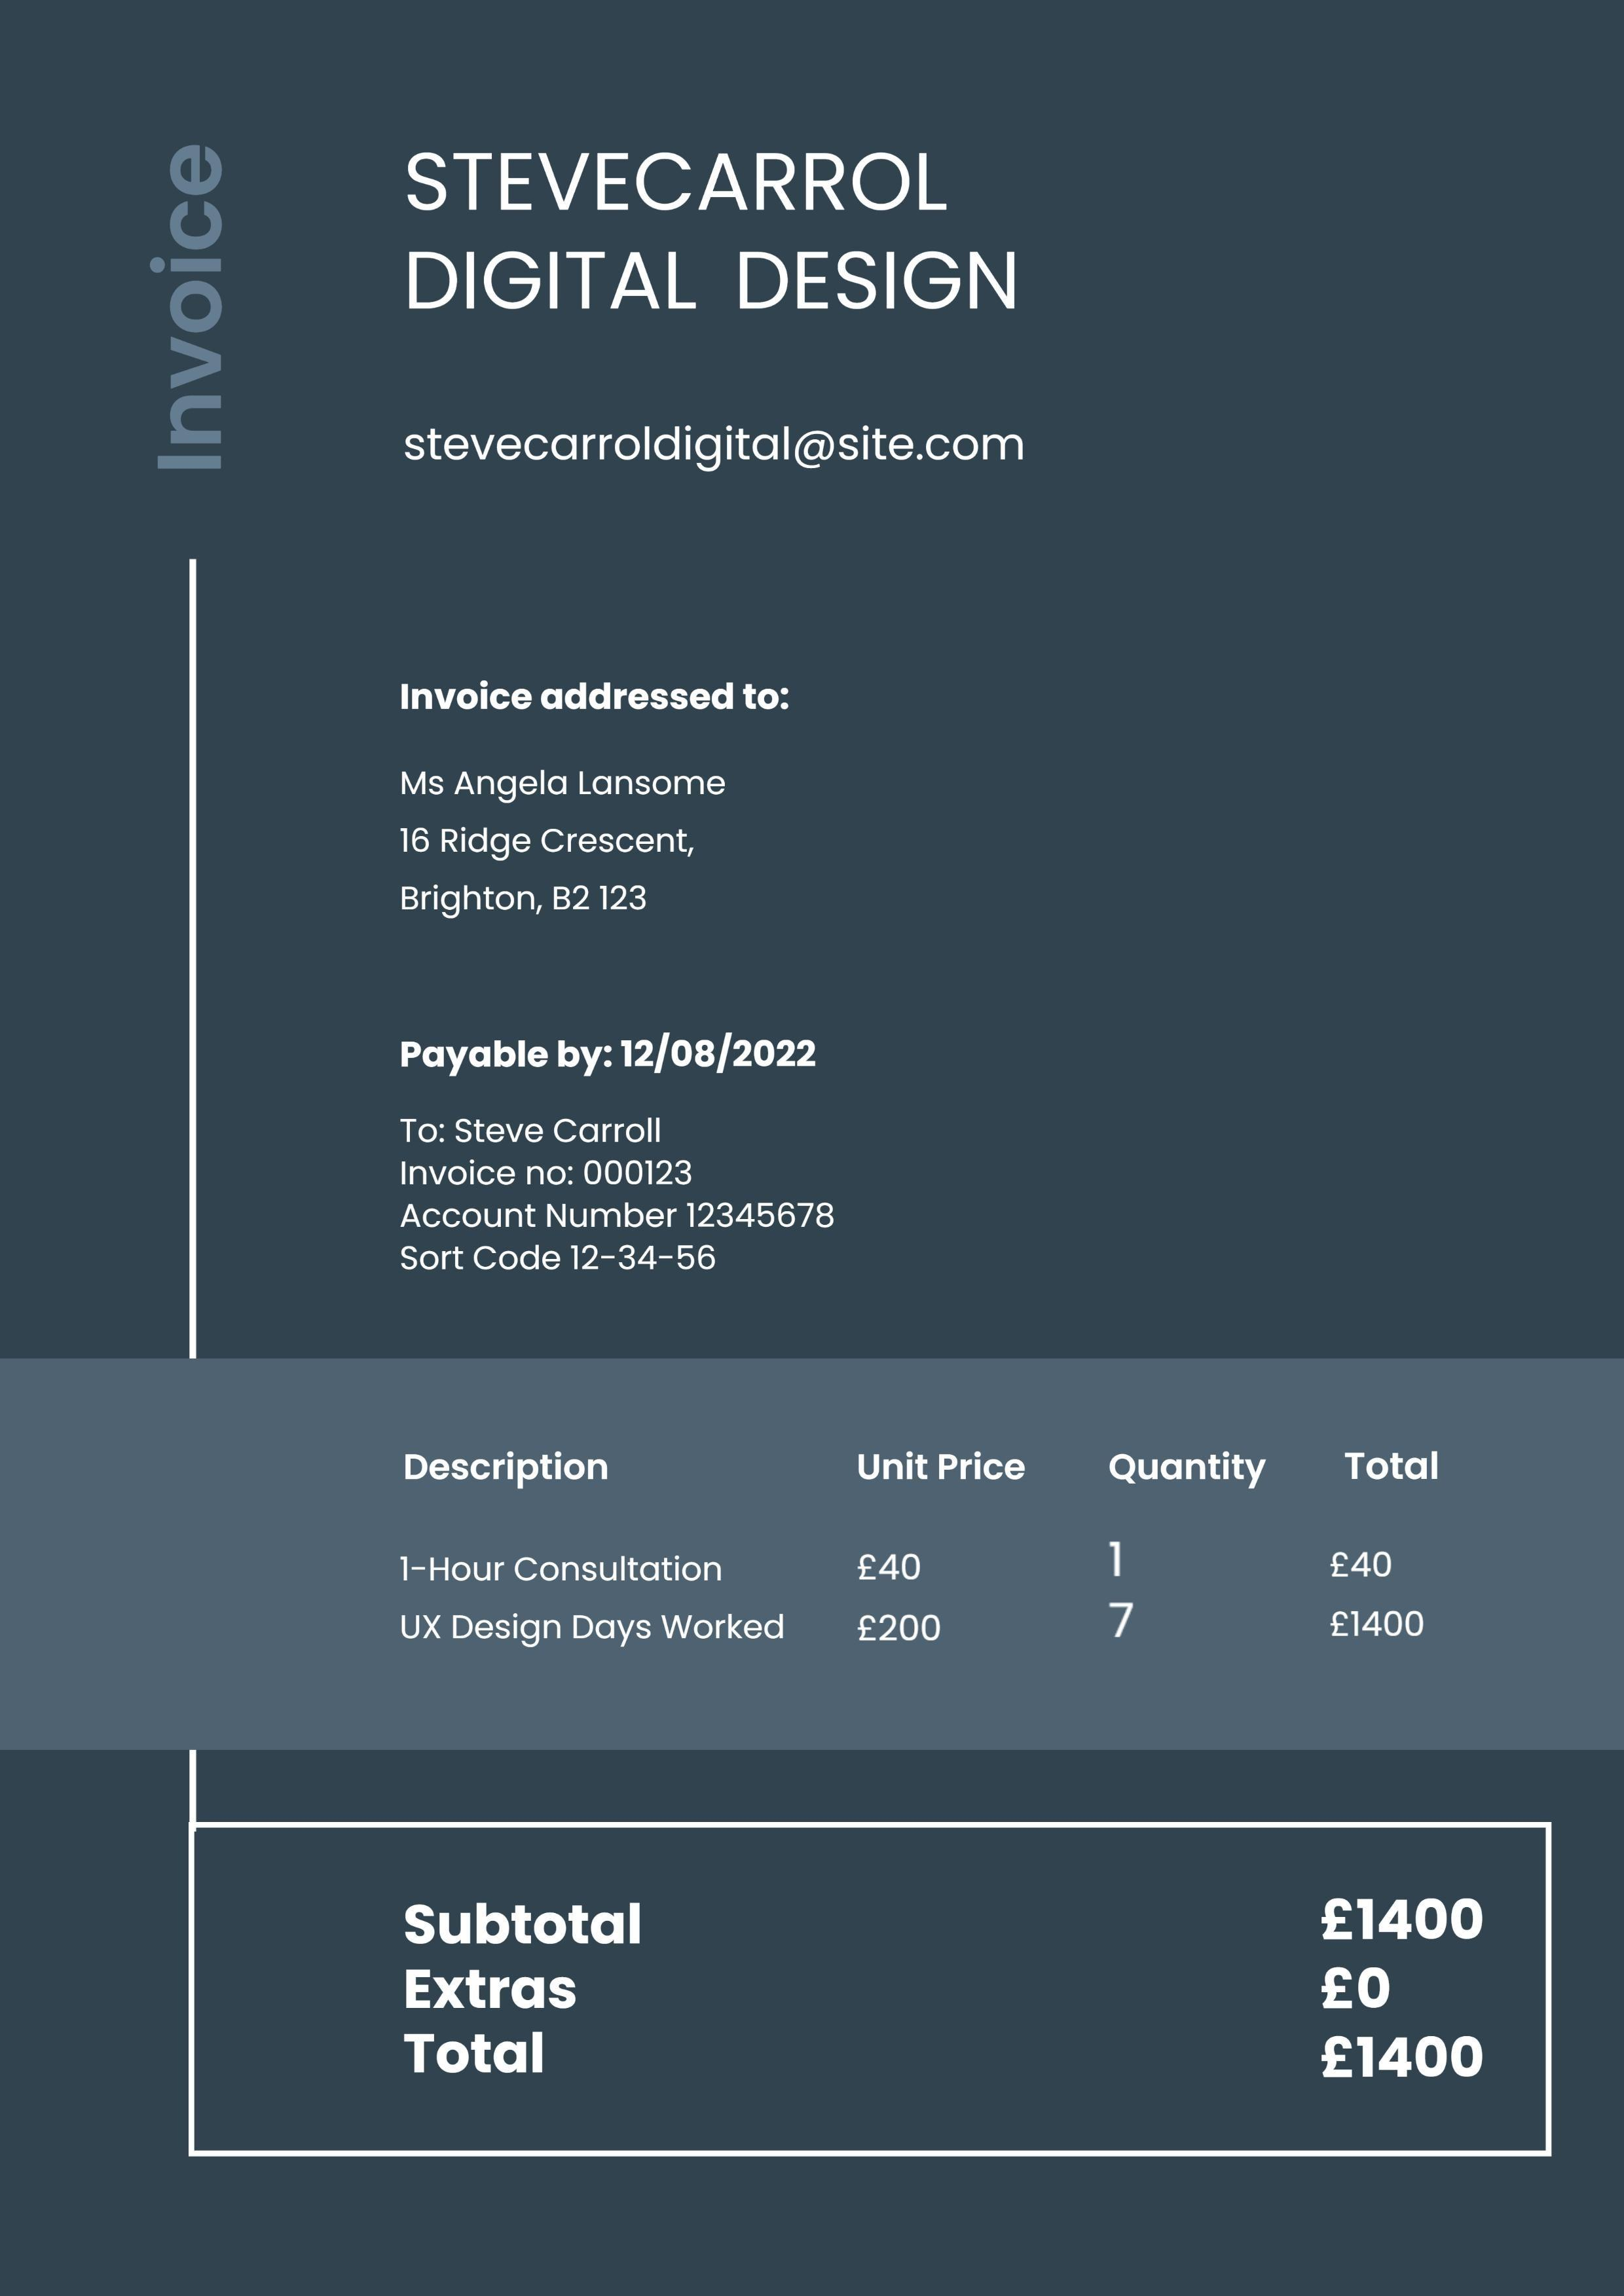ROI: (385, 1448, 1468, 1697), (380, 1876, 1503, 2103), (374, 141, 1040, 485), (369, 659, 845, 935), (359, 1093, 896, 1291)
